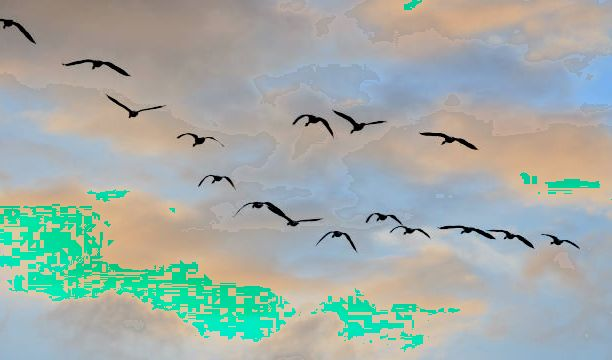Bird: (328, 100, 387, 135), (102, 89, 167, 120), (415, 123, 479, 152), (59, 55, 132, 79), (232, 196, 288, 226), (437, 218, 498, 245), (173, 127, 227, 155), (309, 229, 361, 257), (287, 112, 335, 142), (488, 222, 534, 251), (273, 208, 324, 230), (0, 15, 35, 44), (540, 227, 581, 251), (196, 170, 236, 192), (389, 225, 433, 243), (360, 209, 401, 226)
